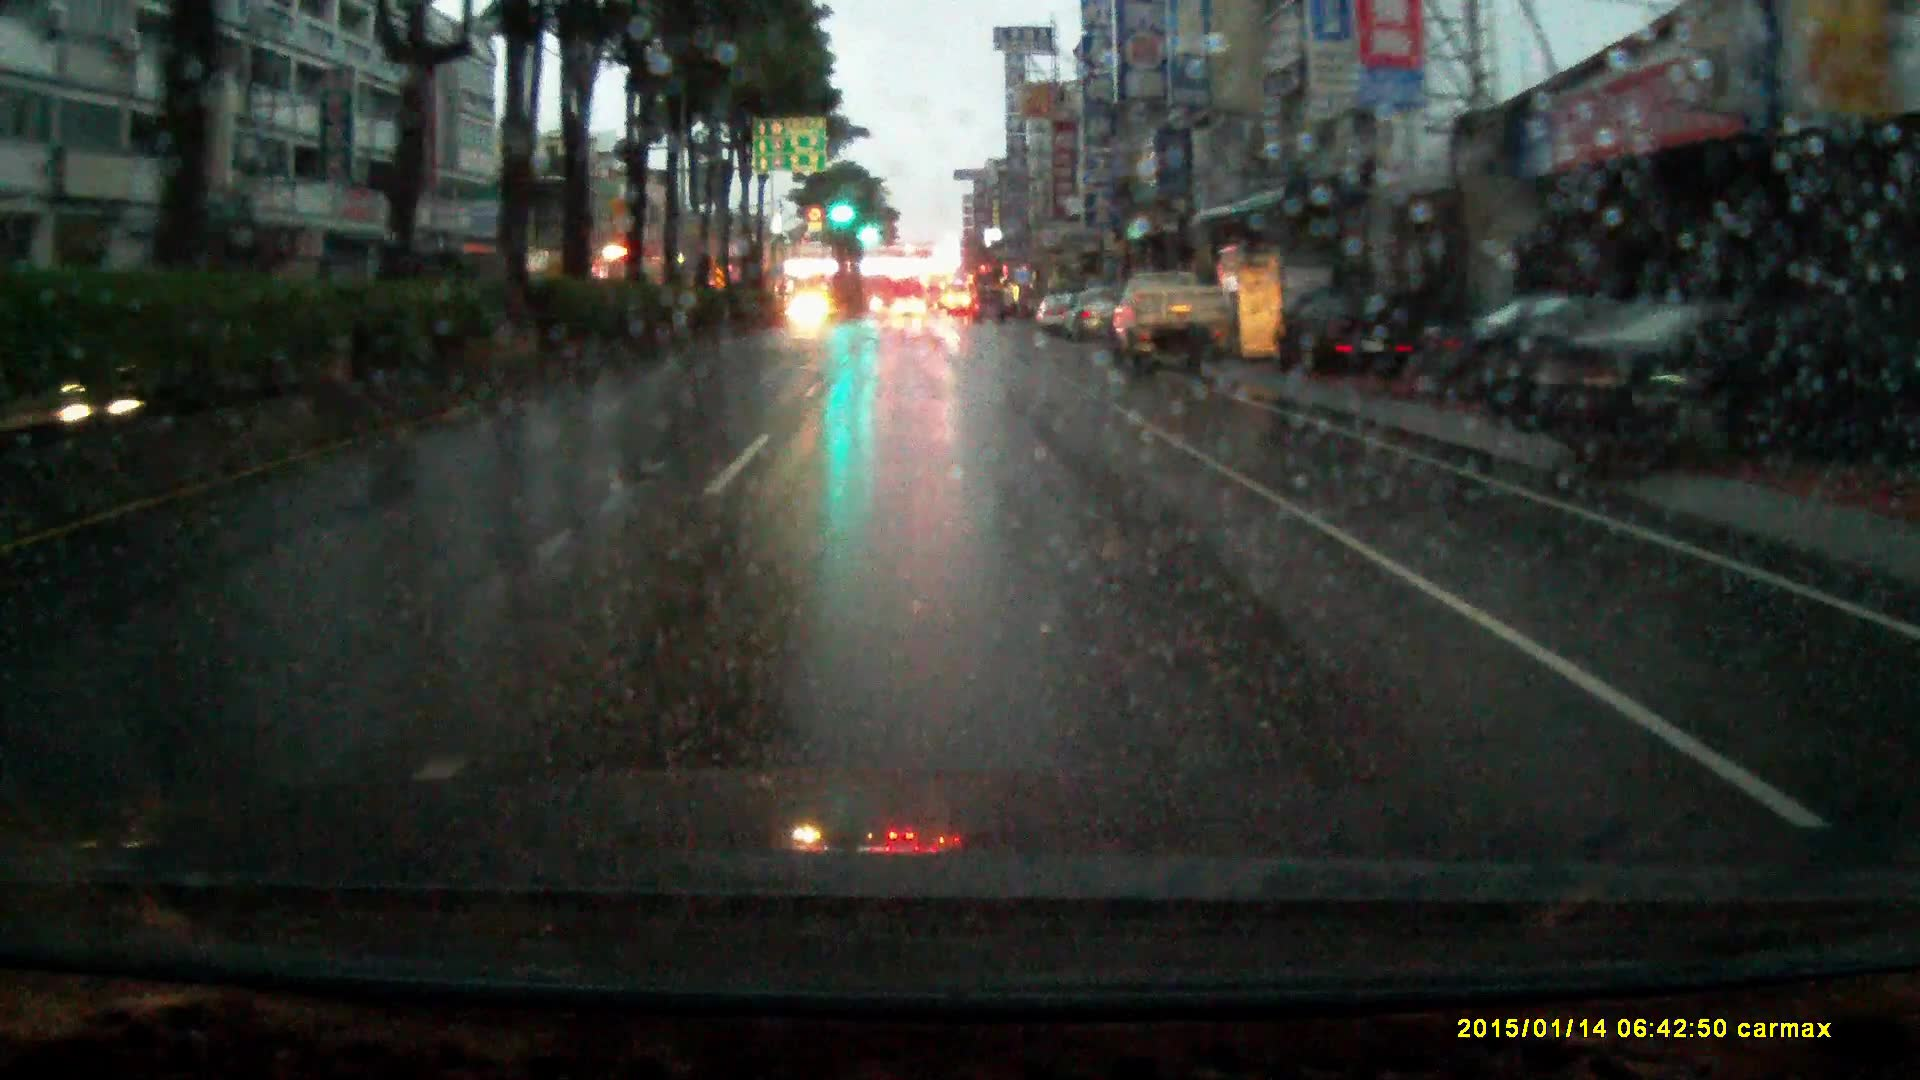vehicle: (1491, 298, 1908, 481), (1429, 298, 1691, 407), (1110, 268, 1230, 371), (1280, 287, 1414, 376), (1065, 287, 1121, 342), (789, 289, 833, 332), (1035, 291, 1077, 335), (971, 287, 1009, 324), (891, 295, 927, 322), (926, 276, 947, 313)
